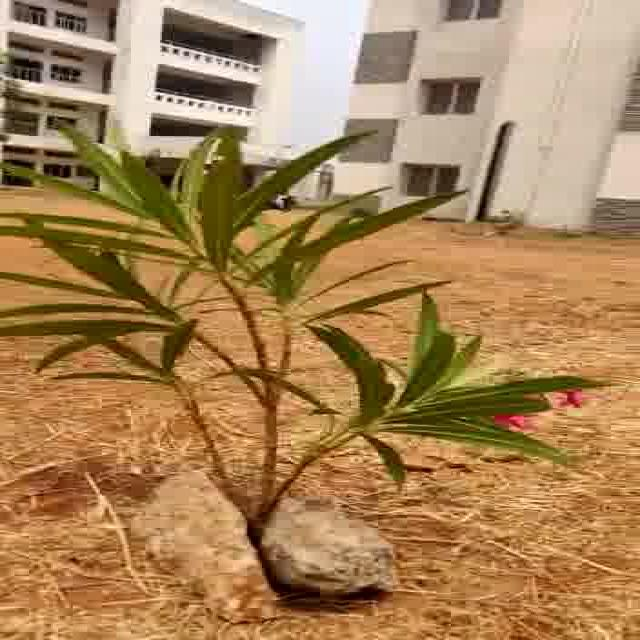Oleander: (9, 92, 574, 524)
